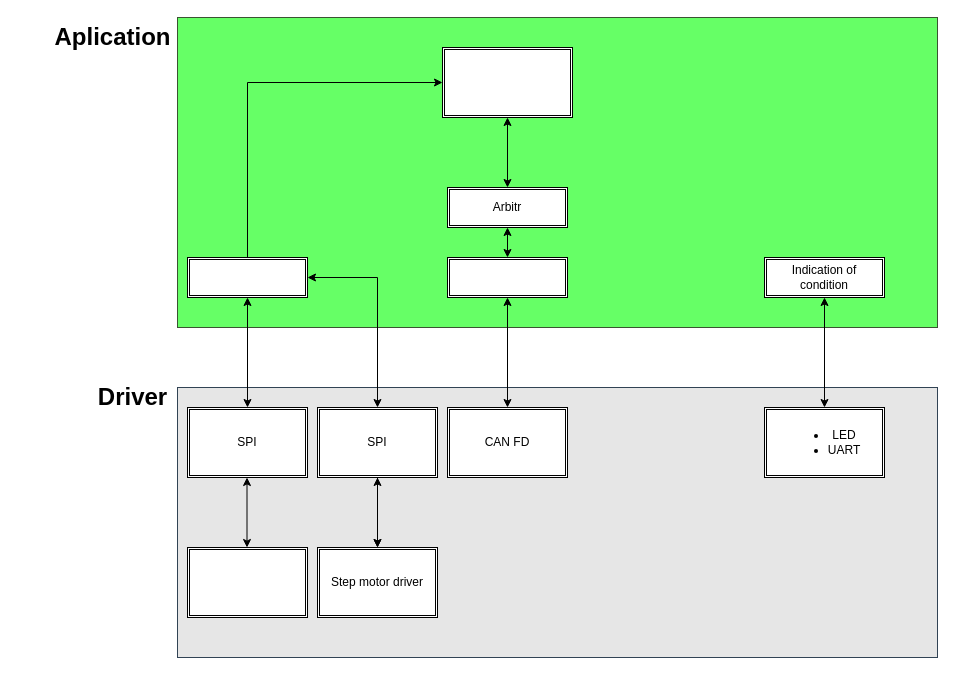
Some shapes in this 955 by 675 pixel diagram are drawn without their labels. Each missing label, with the centre of its shape:
"decision making" belongs at (507,82).
"Encoder" belongs at (247,582).
"Receive from peripheral devices" belongs at (247,277).
"Receive/Transmit" belongs at (507,277).
